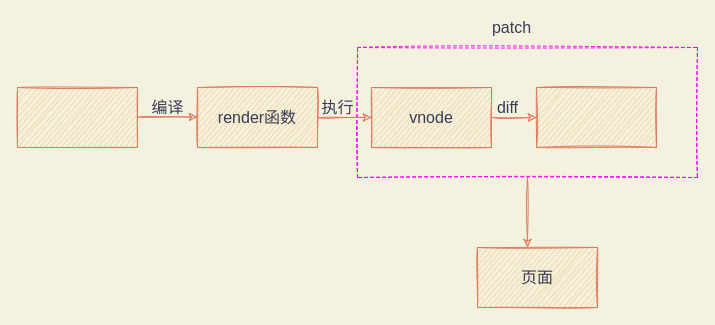
The diagram is 715 pixels wide and 325 high, and some of its shapes have lost their labels. The shapes that lost their labels are listed below. From the top down, each one's box as (x1, y1, x2, y2) in pixels, then its label:
(16, 86, 138, 148): 模版
(536, 86, 656, 148): oldVnode
